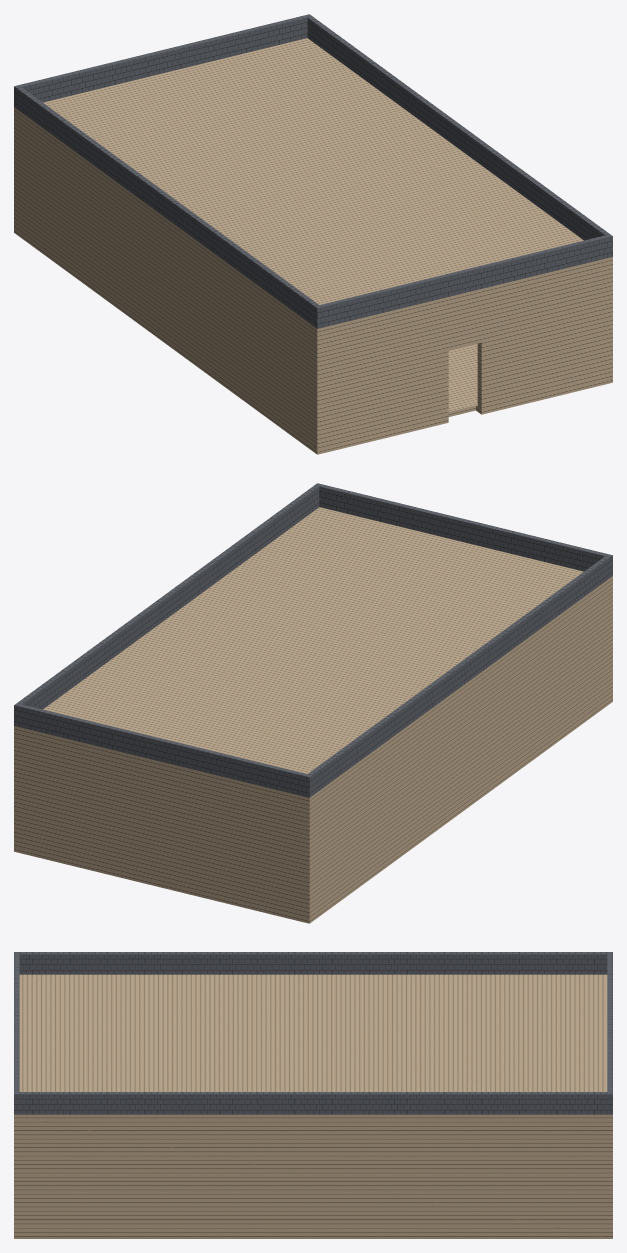
Rendered from laundromat.glb.
3 views of the same model, one above another, from view 1: azimuth 30°, elevation 25°; view 2: azimuth 150°, elevation 25°; view 3: azimuth 270°, elevation 25° (orthographic).
Parts seen in each view (by area): view 1: laundromat-col; view 2: laundromat-col; view 3: laundromat-col.
Boxes of the visible parts, bbox=[...] form: laundromat-col: bbox=[14, 14, 612, 454]; laundromat-col: bbox=[14, 483, 612, 923]; laundromat-col: bbox=[14, 952, 612, 1238].
Size of the model in its own units: 9 by 4.26 by 16.
Materials: 2 (2 with a texture image).
